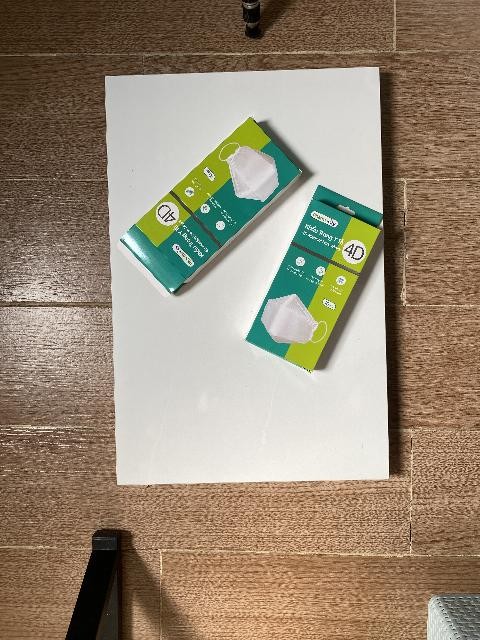4D_medical_face-mask: (117, 118, 302, 298), (246, 185, 384, 372)
